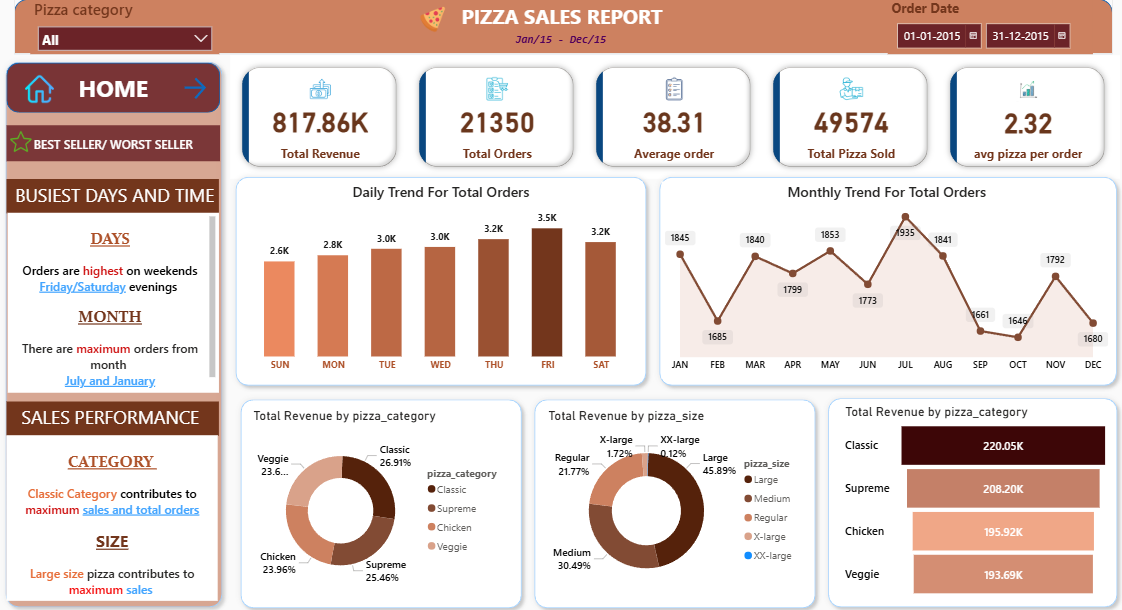

Layout of this report page (visuals, bound fields, positions):
{"tool":"powerbi","page":{"name":"Home","canvas":[1500,820],"ordinal":0},"visuals":[{"type":"shape","box":[0,75,306.7,745],"z":0},{"type":"cardVisual","fields":{"Data":["pizza_sales.Total Revenue","pizza_sales.Total Orders","pizza_sales.Avg orders","pizza_sales.total pizza sold","pizza_sales.avg pizza per order"]},"box":[308.3,75,1186.7,165],"z":1000},{"type":"shape","box":[19.8,0,1464.9,73.7],"z":2000},{"type":"textbox","box":[612,0,293.3,49.6],"z":3000},{"type":"textbox","box":[668.7,39.7,161.5,34],"z":4000},{"type":"image","box":[545.4,5.7,66.6,43.9],"z":5000},{"type":"shape","box":[306,228.1,565.3,296.1],"z":6000},{"type":"columnChart","title":"Daily Trend For Total Orders","fields":{"Category":["pizza_sales.order day"],"Y":["pizza_sales.Total Orders"]},"box":[320.2,243.7,538.4,263.5],"z":7000},{"type":"shape","box":[871.3,228.1,627.6,296.1],"z":8000},{"type":"areaChart","title":"Monthly Trend For Total Orders","fields":{"Category":["pizza_sales.Month"],"Y":["pizza_sales.Total Orders"]},"box":[884,243.7,600.7,263.5],"z":9000},{"type":"shape","box":[705.5,524.2,392.4,296.1],"z":10000},{"type":"donutChart","title":"Total Revenue by pizza size","fields":{"Category":["pizza_sales.pizza_size"],"Y":["pizza_sales.Total Revenue"]},"box":[721.1,539.8,362.7,264.9],"z":11000},{"type":"textbox","box":[9.9,239.4,283.3,45.3],"z":13000},{"type":"textbox","title":"DAYS","box":[11.7,285,281.7,240],"z":14000},{"type":"textbox","box":[9.9,536.9,283.3,45.3],"z":15000},{"type":"textbox","box":[9.9,582.3,281.9,221],"z":16000},{"type":"shape","box":[313.1,524.2,392.4,296.1],"z":17000},{"type":"donutChart","title":"Total Revenue by pizza category","fields":{"Category":["pizza_sales.pizza_category"],"Y":["pizza_sales.Total Revenue"]},"box":[328.7,539.8,362.7,264.9],"z":18000},{"type":"shape","box":[9.9,168.6,284.8,48.2],"z":19000},{"type":"image","box":[9.9,151.6,38.3,76.5],"z":20000},{"type":"shape","box":[9.9,85,284.8,66.6],"z":21000},{"type":"image","box":[29.8,0,48.2,239.4],"z":22000},{"type":"actionButton","box":[240.8,100.6,51,38.3],"z":23000},{"type":"slicer","title":"Pizza category","fields":{"Values":["pizza_sales.pizza_category"]},"box":[41.1,0,252.2,73.7],"z":24000},{"type":"slicer","title":"Order Date","fields":{"Values":["pizza_sales.order_date"]},"box":[1184.4,0,273.4,73.7],"z":25000},{"type":"shape","box":[1096.7,523.3,403.3,296.7],"z":25501},{"type":"funnel","title":"Total Revenue by pizza category","fields":{"Category":["pizza_sales.pizza_category"],"Y":["pizza_sales.Total Revenue"]},"box":[1109.3,539.8,375.4,264.9],"z":27501}]}

Visuals, with their boxes in screenshot pixels (x1, y1, x2, y2), scaled from the page's 1500x820 canvas onto the 1122x610 screenshot:
shape: <box>0,56,229,609</box>
cardVisual - pizza_sales.Total Revenue x pizza_sales.Total Orders: <box>231,56,1118,179</box>
shape: <box>15,0,1111,55</box>
textbox: <box>458,0,677,37</box>
textbox: <box>500,30,621,55</box>
image: <box>408,4,458,37</box>
shape: <box>229,170,652,390</box>
"Daily Trend For Total Orders" columnChart: <box>240,181,642,377</box>
shape: <box>652,170,1121,390</box>
"Monthly Trend For Total Orders" areaChart: <box>661,181,1111,377</box>
shape: <box>528,390,821,609</box>
"Total Revenue by pizza size" donutChart: <box>539,402,811,599</box>
textbox: <box>7,178,219,212</box>
"DAYS" textbox: <box>9,212,219,391</box>
textbox: <box>7,399,219,433</box>
textbox: <box>7,433,218,598</box>
shape: <box>234,390,528,609</box>
"Total Revenue by pizza category" donutChart: <box>246,402,517,599</box>
shape: <box>7,125,220,161</box>
image: <box>7,113,36,170</box>
shape: <box>7,63,220,113</box>
image: <box>22,0,58,178</box>
actionButton: <box>180,75,218,103</box>
"Pizza category" slicer: <box>31,0,219,55</box>
"Order Date" slicer: <box>886,0,1090,55</box>
shape: <box>820,389,1121,609</box>
"Total Revenue by pizza category" funnel: <box>830,402,1111,599</box>
